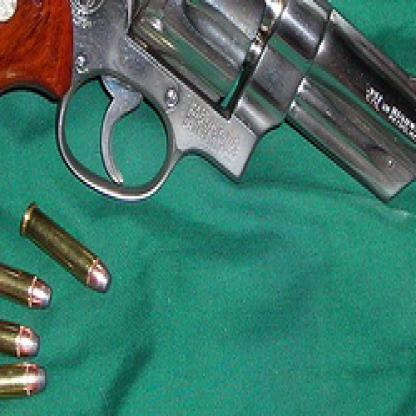gun: (0, 0, 415, 242)
